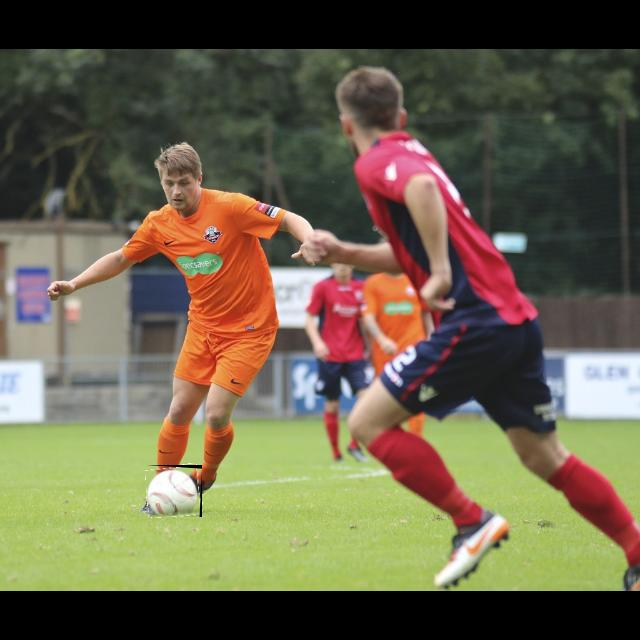Football: (146, 465, 202, 517)
